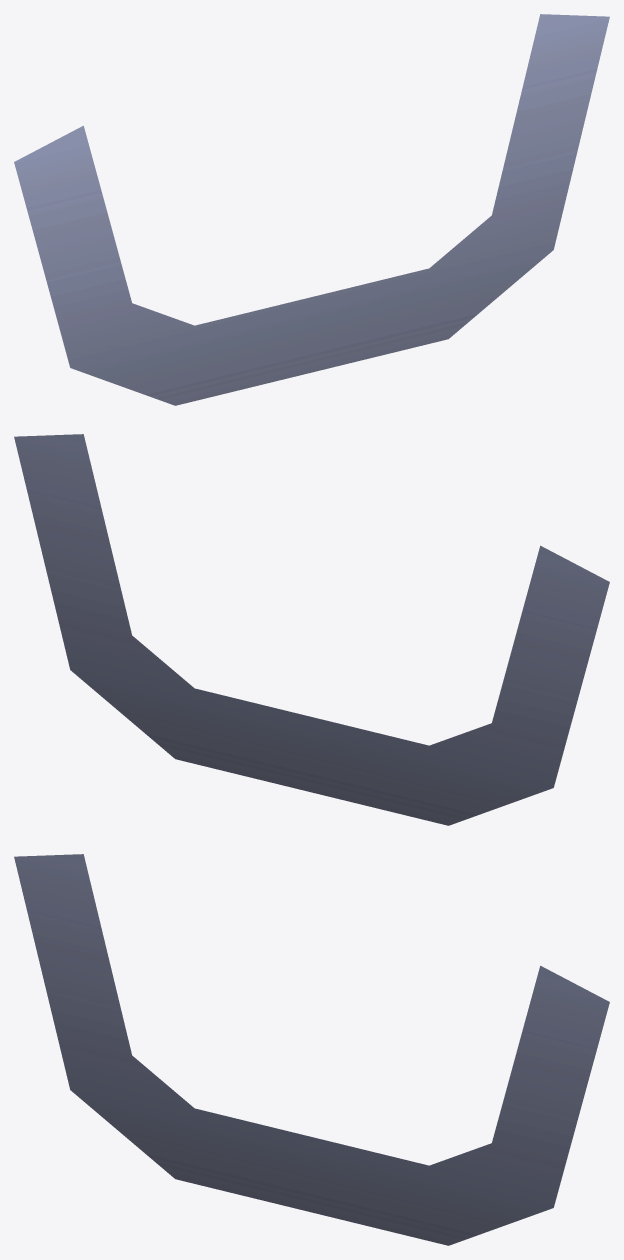
Rendered from coaster-flume-cap-front.glb.
The picture shows the model from 3 angles, top to bottom: view 1: azimuth 30°, elevation 25°; view 2: azimuth 150°, elevation 25°; view 3: azimuth 330°, elevation 25°; orthographic projection.
Parts seen in each view (by area): view 1: coaster-flume-cap-front; view 2: coaster-flume-cap-front; view 3: coaster-flume-cap-front.
Part boxes in pixels (<box>): coaster-flume-cap-front: <box>14,14,609,405</box>; coaster-flume-cap-front: <box>14,434,609,825</box>; coaster-flume-cap-front: <box>14,854,609,1245</box>.
Bounding box in the file's own units: 0.826 × 0.4009 × 0.
1 material, 1 textured.
